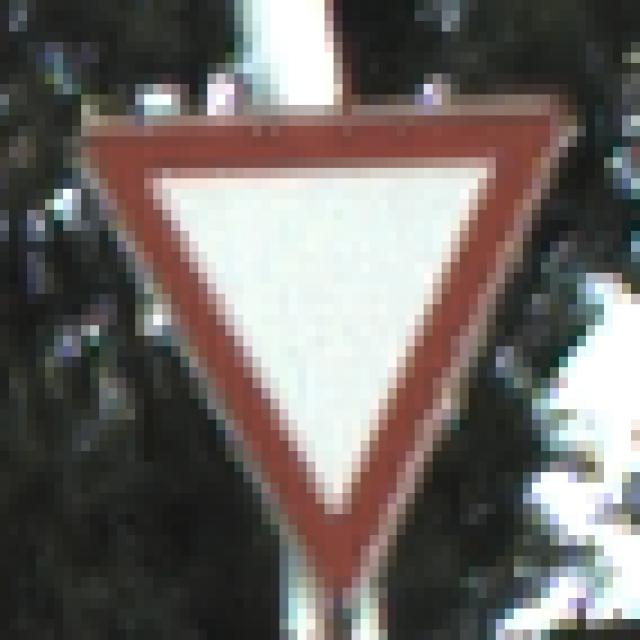Give Way: (64, 64, 587, 588)
